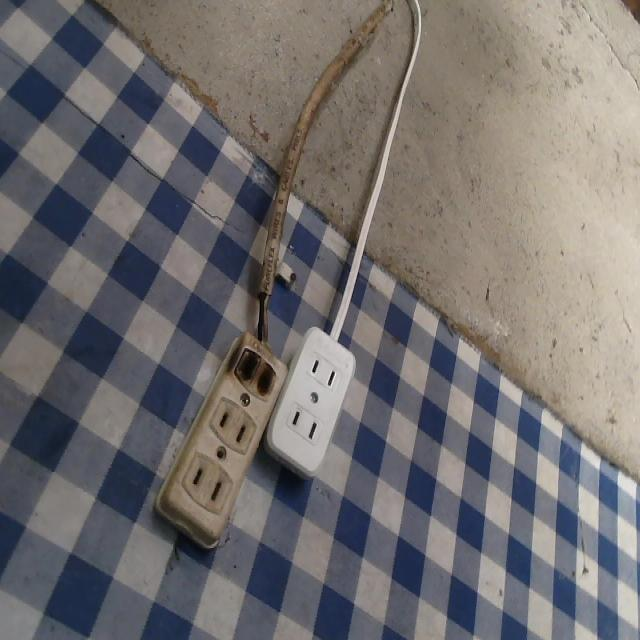-: (229, 334, 280, 402)
